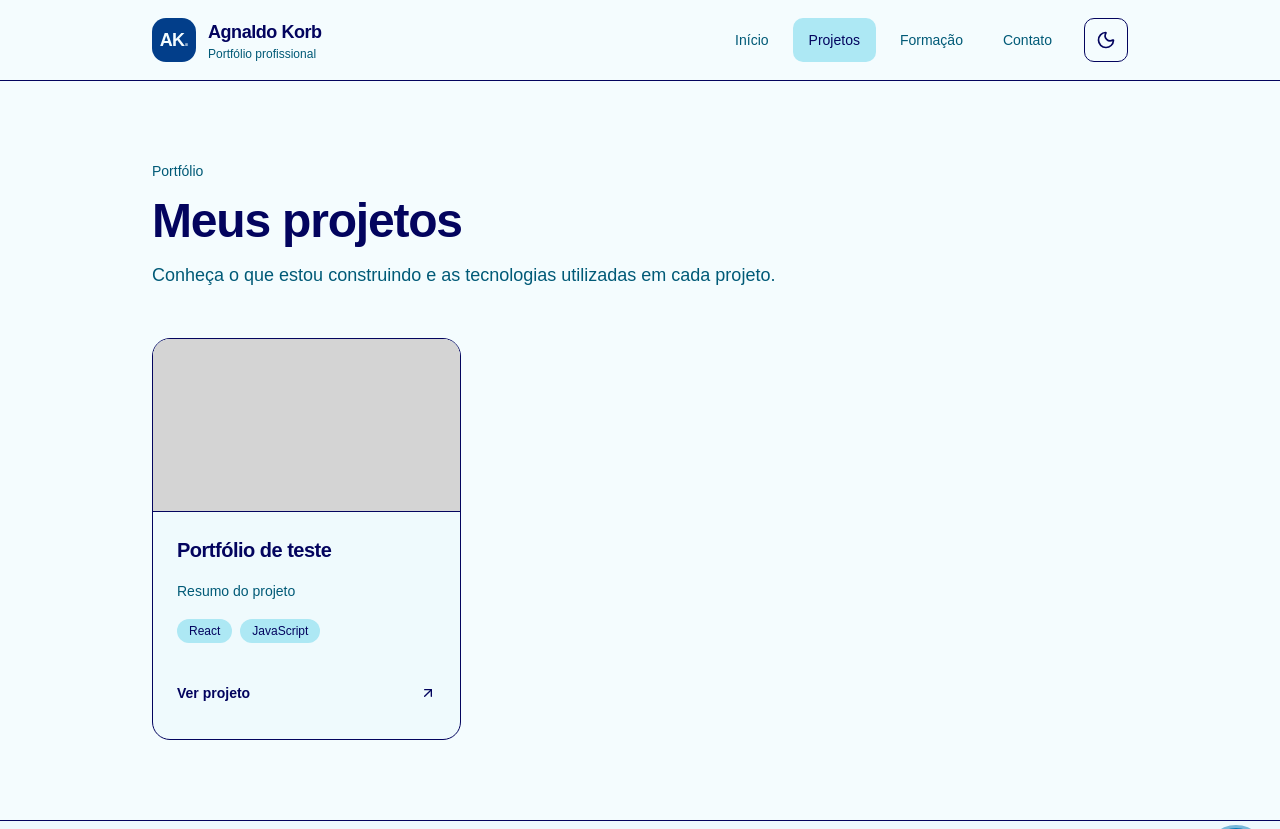
Test: Navegação e páginas integradas › navega da listagem aos detalhes e retorna
The image size is (1280, 829).
Click the link with aria-label "Ver projeto:": click(214, 693) [177,685,436,701]
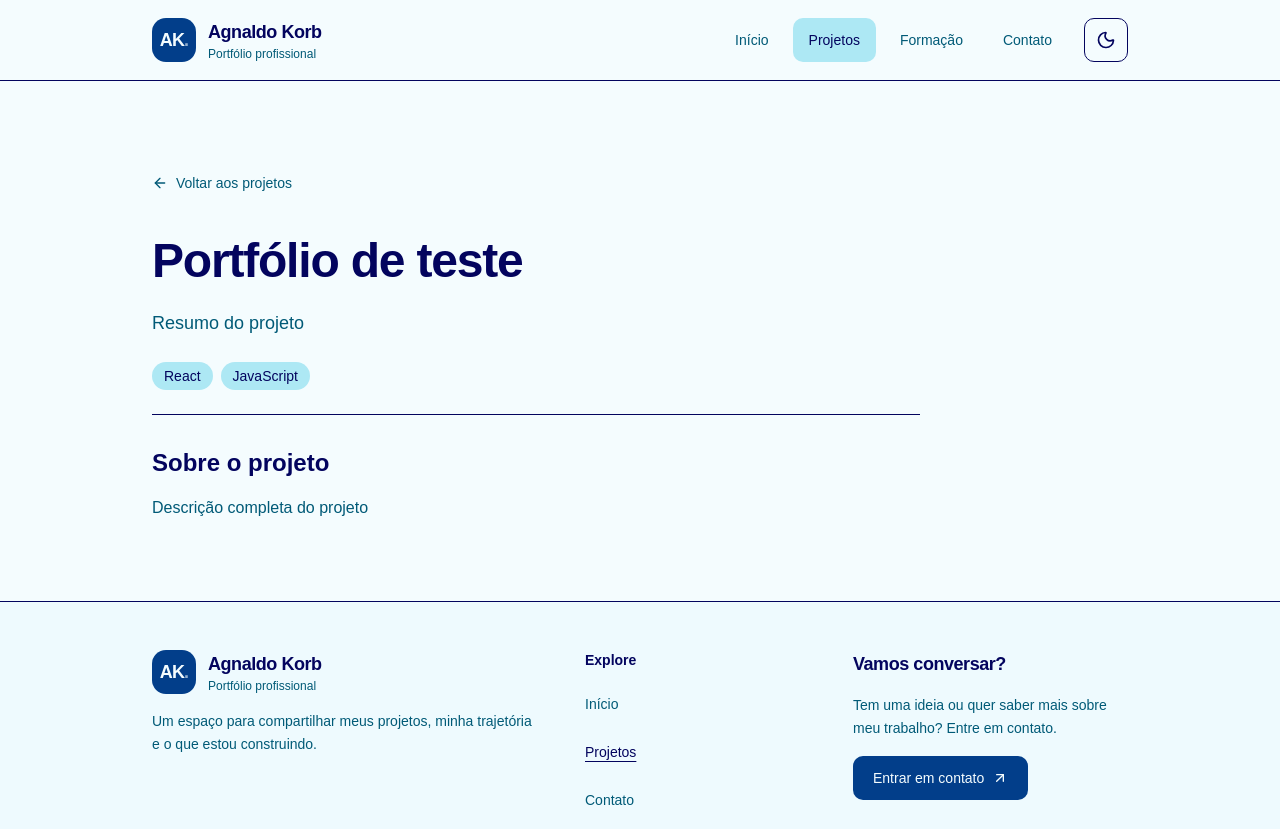
expect the heading "Portfólio de teste" is shown: met, box [152,234,522,287]
expect the text "Descrição completa do projeto" is shown: met, box [152,499,368,516]
Click the link "Voltar aos projetos": click(222, 183) [152,175,292,191]
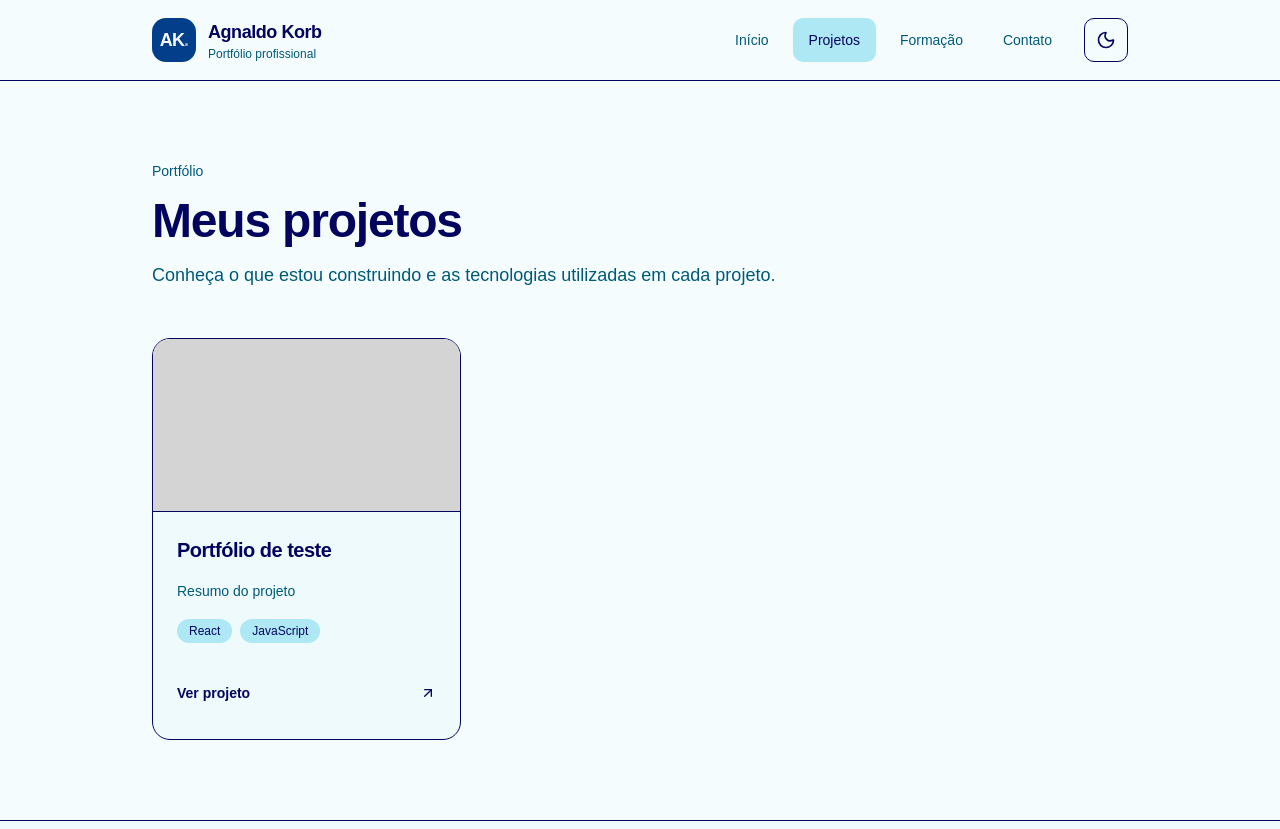
expect the heading "Meus projetos" is shown: met, box [152,194,462,247]
